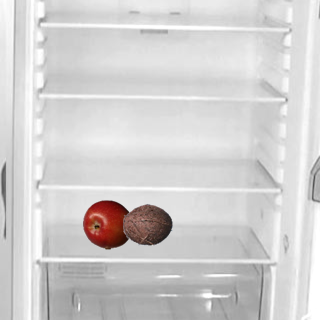Apple Braeburn: (82, 199, 132, 249)
Cocos: (122, 199, 172, 249)
